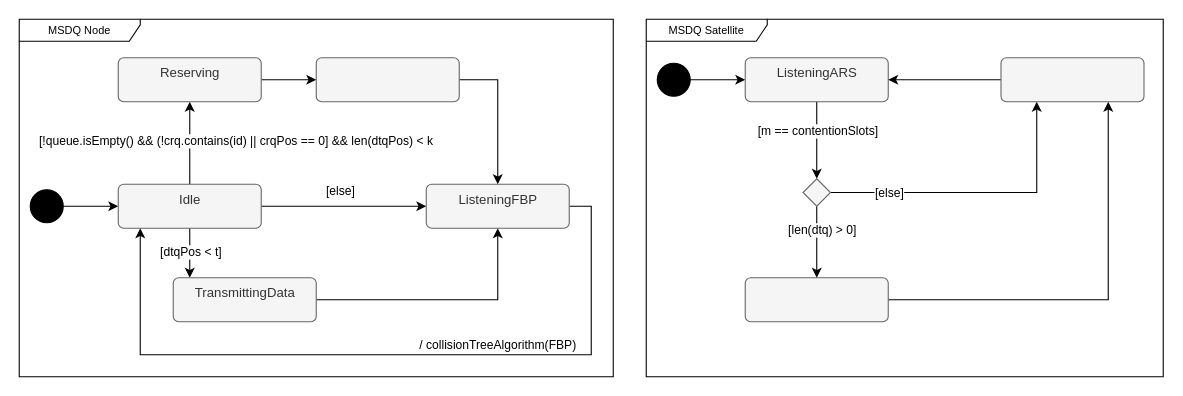
Some shapes in this 1183 by 396 pixel diagram are drawn without their labels. The shapes that lost their labels are listed below. From the top down, each one's centre as x and y in pixels, then its label:
At point (387, 79): "TransmittingARS".
At point (1072, 79): "BroadcastFBP".
At point (816, 299): "ListeningData".
